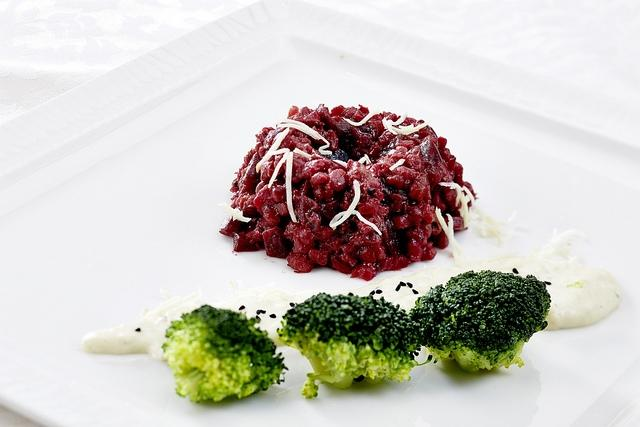broccoli: (277, 292, 433, 399), (408, 269, 552, 374), (162, 305, 288, 403)
